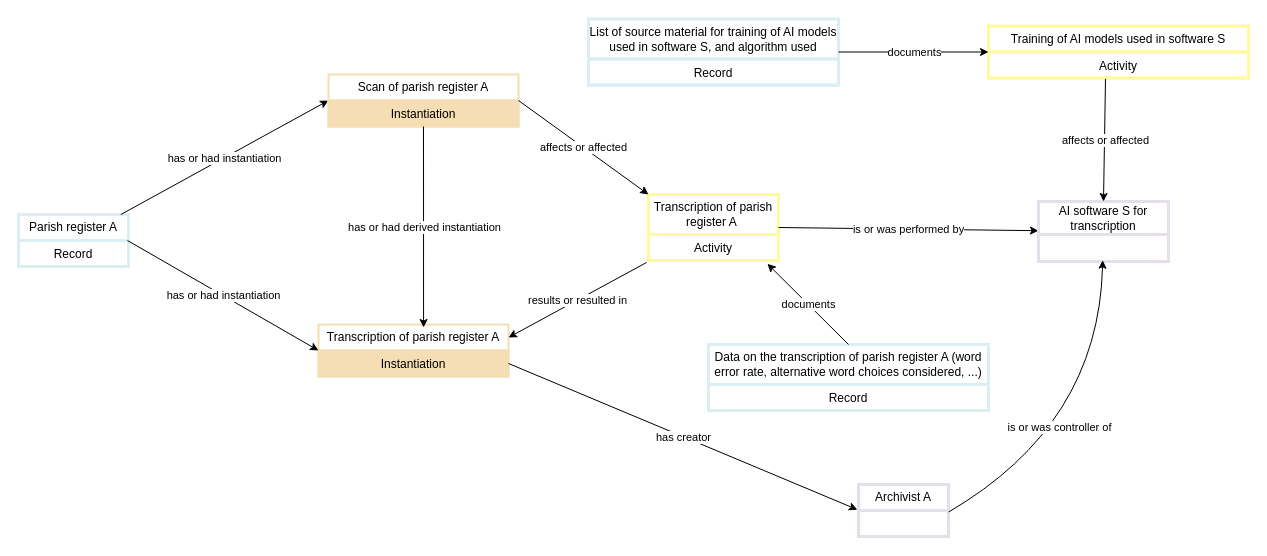
This 1267x556 diagram has some shape labels left out. Each missing label, with the centre of its shape:
Mechanism: the point at 1103,247
Person: the point at 903,523
